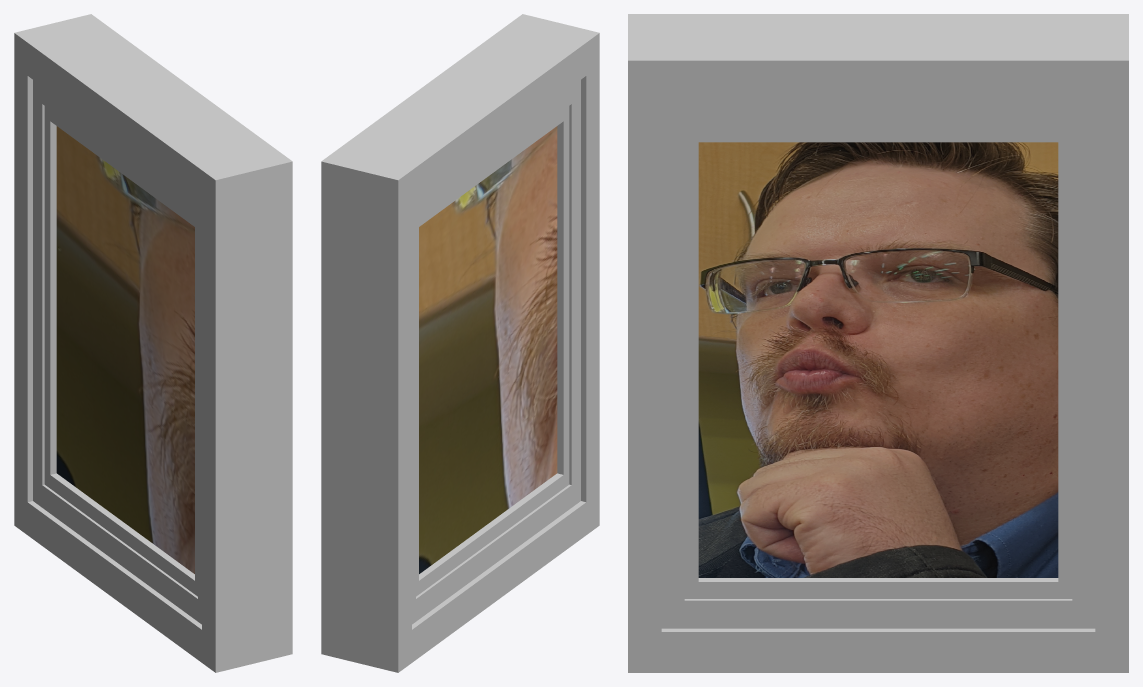
Rendered from powell photo.fbx.
3 views of the same model, side by side, from view 1: azimuth 30°, elevation 25°; view 2: azimuth 150°, elevation 25°; view 3: azimuth 270°, elevation 25° (orthographic). The views are drawn at different scales.
Visible parts, largest first — view 1: Cube.003, Cube, Cube.002, Cube.001; view 2: Cube.003, Cube, Cube.002, Cube.001; view 3: Cube, Cube.003, Cube.002, Cube.001.
Part boxes in pixels (left/top/right/bottom): Cube.003: left=14, top=14, right=292, bottom=672; Cube: left=56, top=126, right=194, bottom=573; Cube.002: left=33, top=80, right=201, bottom=624; Cube.001: left=44, top=106, right=197, bottom=596; Cube.003: left=321, top=14, right=599, bottom=672; Cube: left=419, top=126, right=557, bottom=573; Cube.002: left=412, top=80, right=580, bottom=624; Cube.001: left=416, top=106, right=569, bottom=596; Cube: left=698, top=142, right=1058, bottom=577; Cube.003: left=628, top=14, right=1128, bottom=672; Cube.002: left=661, top=102, right=1095, bottom=628; Cube.001: left=684, top=127, right=1072, bottom=598.
Bounding box in the file's own units: 56.65 × 346 × 256.
1 material, 1 textured.
